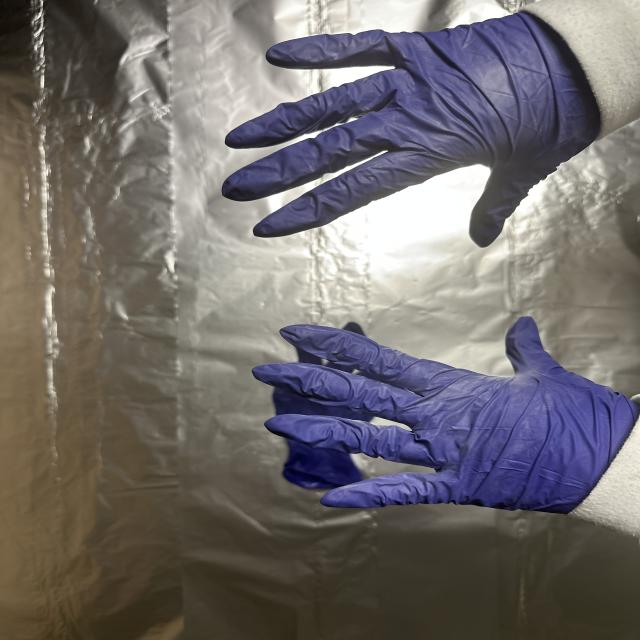gloves_contaminated: (223, 14, 600, 247), (254, 317, 637, 513)
